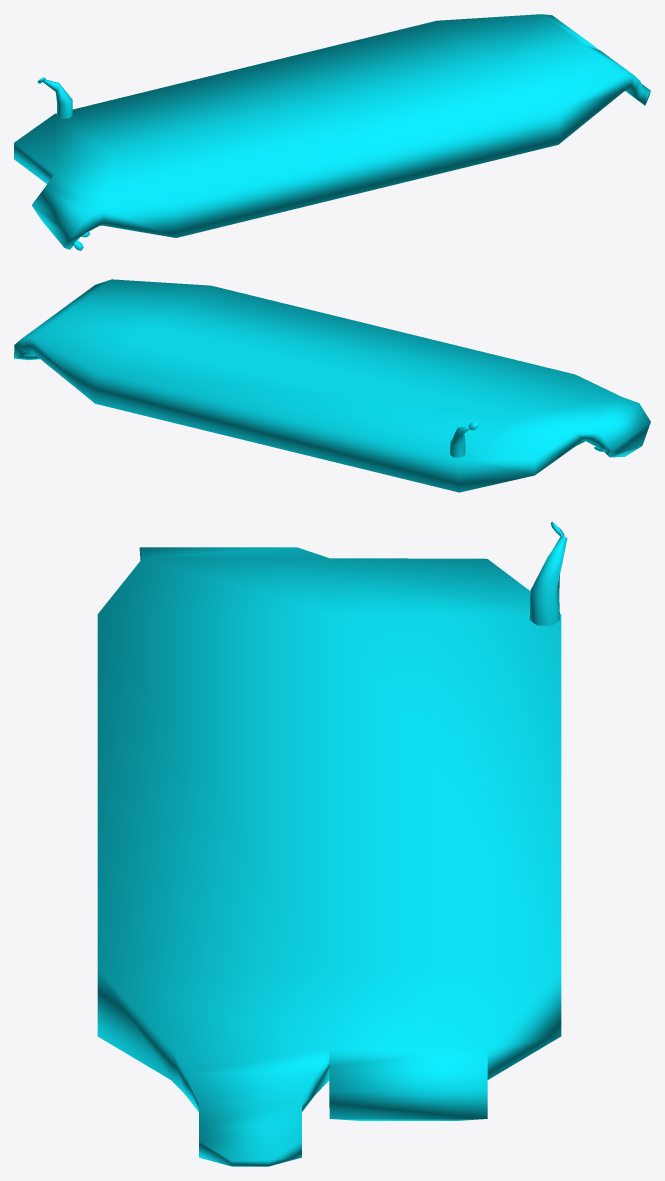
Rendered from PlatformWood.fbx.
The picture shows the model from 3 angles, top to bottom: view 1: azimuth 30°, elevation 25°; view 2: azimuth 150°, elevation 25°; view 3: azimuth 270°, elevation 25°; orthographic projection. The views are drawn at different scales.
Parts seen in each view (by area): view 1: PlatformWood; view 2: PlatformWood; view 3: PlatformWood.
Boxes of the visible parts, box(x1,y1,x2,y2) form: PlatformWood: box(14, 14, 650, 250); PlatformWood: box(14, 279, 650, 492); PlatformWood: box(97, 521, 567, 1166).
Bounding box in the file's own units: 570 × 82.38 × 203.
